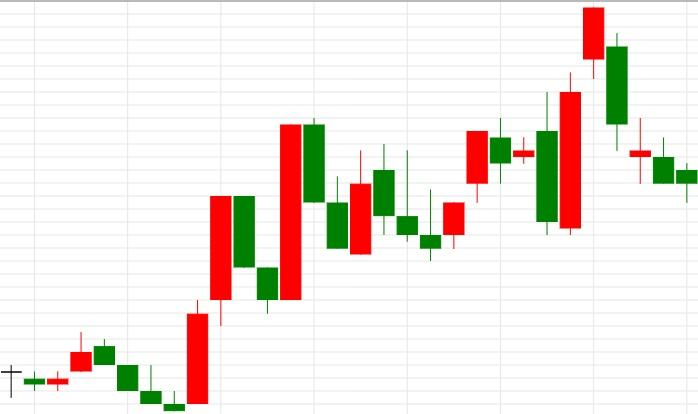three_black_crows_fall: (326, 145, 442, 260), (24, 332, 162, 405)
